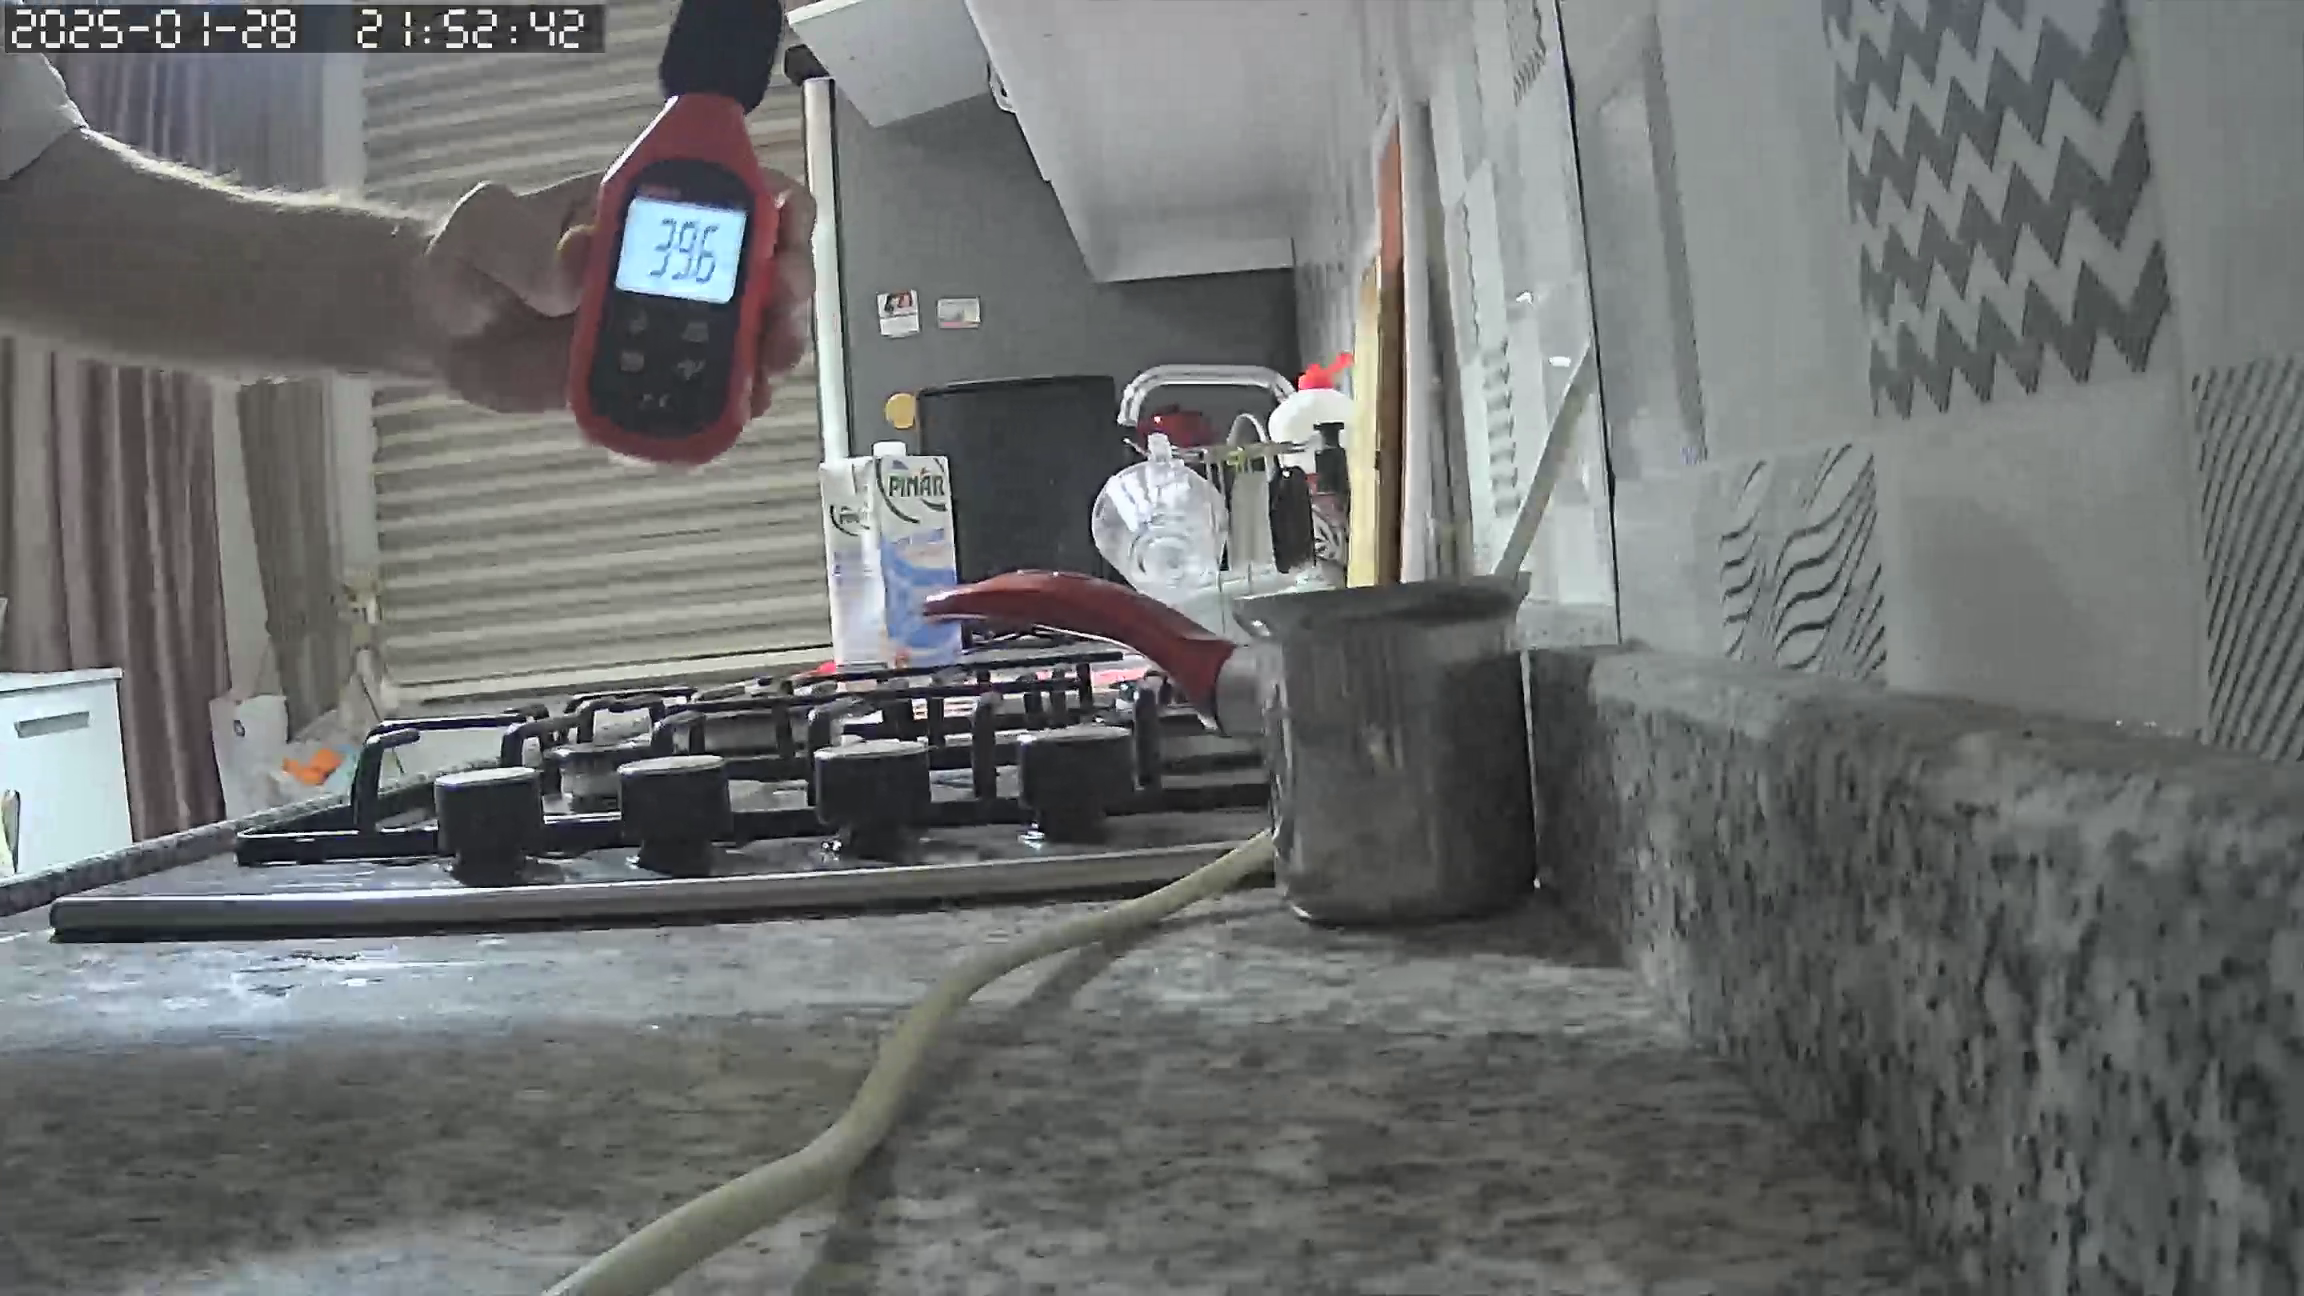screen: (611, 195, 747, 305)
